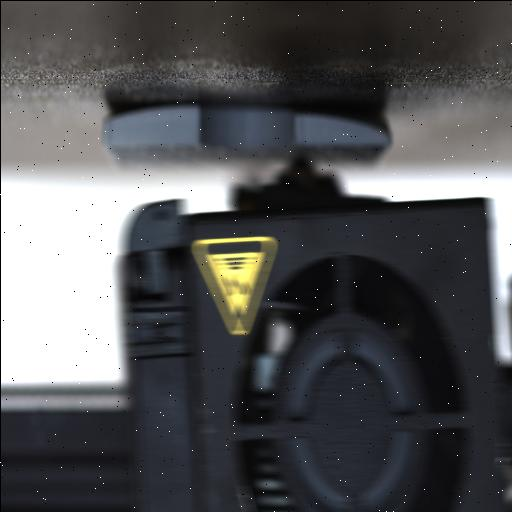warp: (306, 100, 394, 146), (94, 100, 174, 132)
